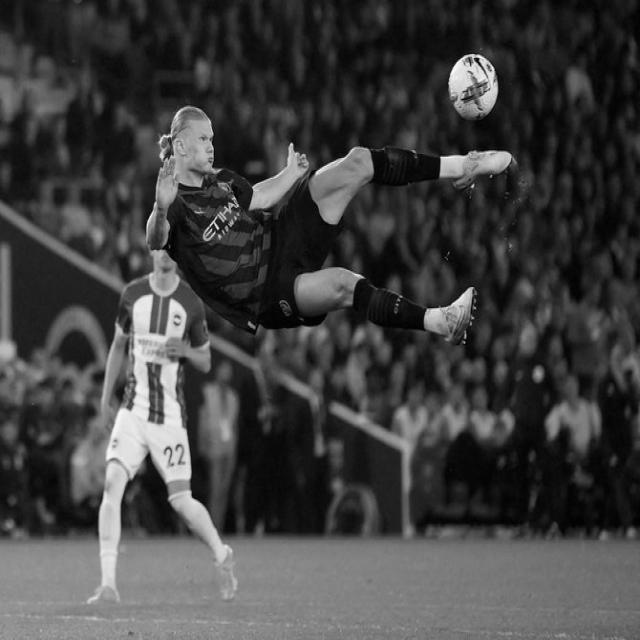football: (445, 49, 504, 122)
